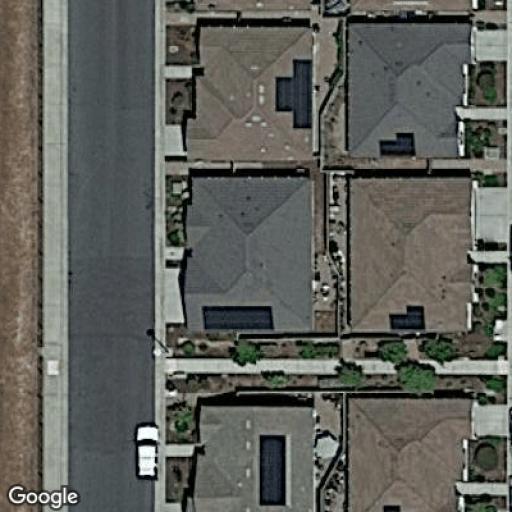solar-panel: (276, 57, 312, 130), (258, 434, 286, 506), (201, 304, 275, 330), (389, 303, 425, 330), (379, 130, 416, 156), (382, 502, 402, 512)
